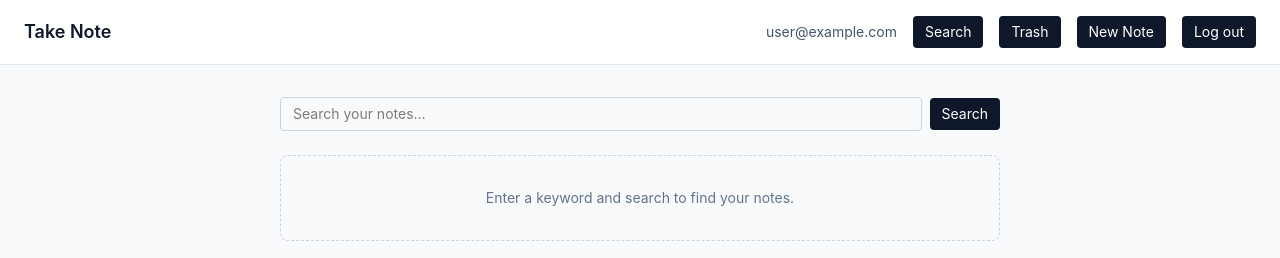
SearchPage › Failed search displays error feedback with retry control
Step 1. Type "Note 1" into the field labelled "Search your notes" → (601, 114), box [280,97,922,131]
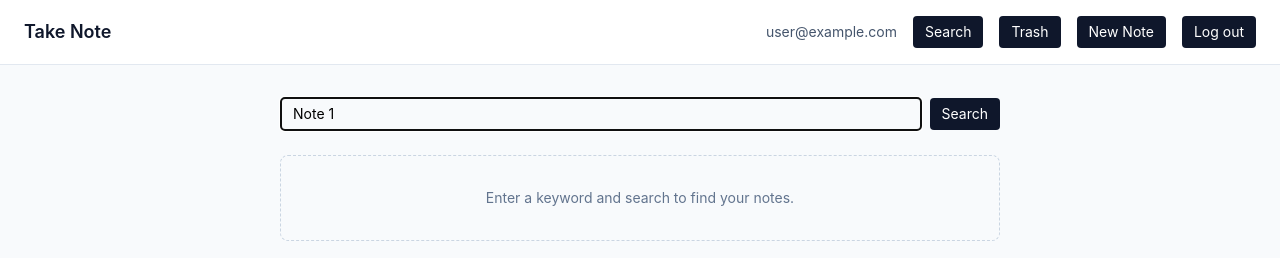
Step 2. Click the button "Search" → (965, 114), box [930,98,1000,130]
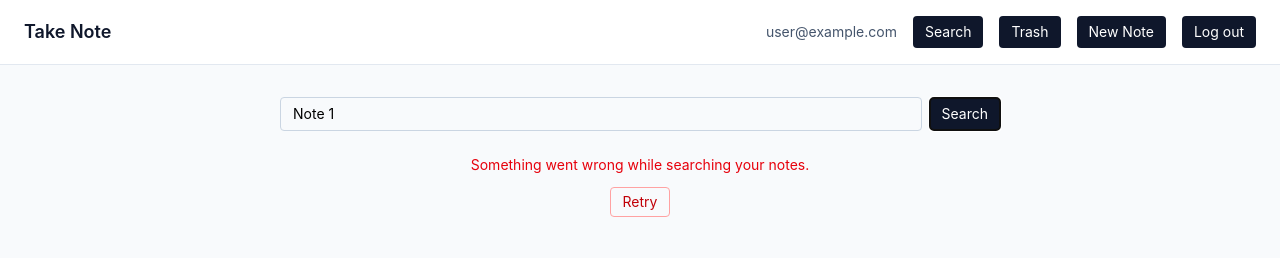
Result: the message "Something went wrong while searching your notes. Retry" is shown at [471,156,809,217]
Step 3. Click the button "Retry" → (640, 202), box [610,187,670,217]
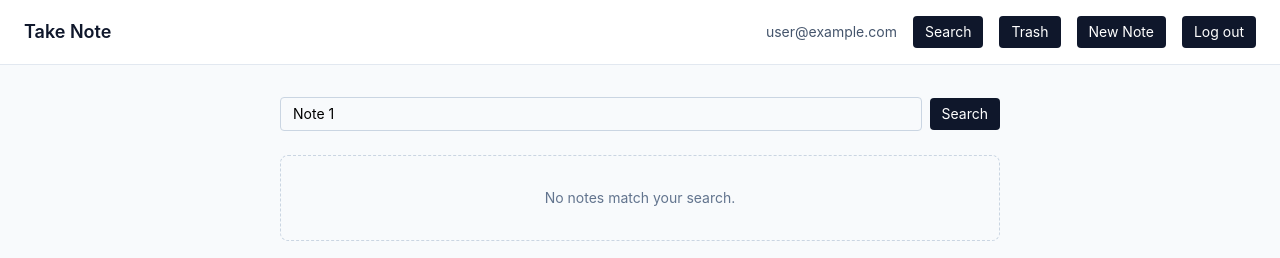
Result: the text "No notes match your search." is shown at [280,155,1000,241]
